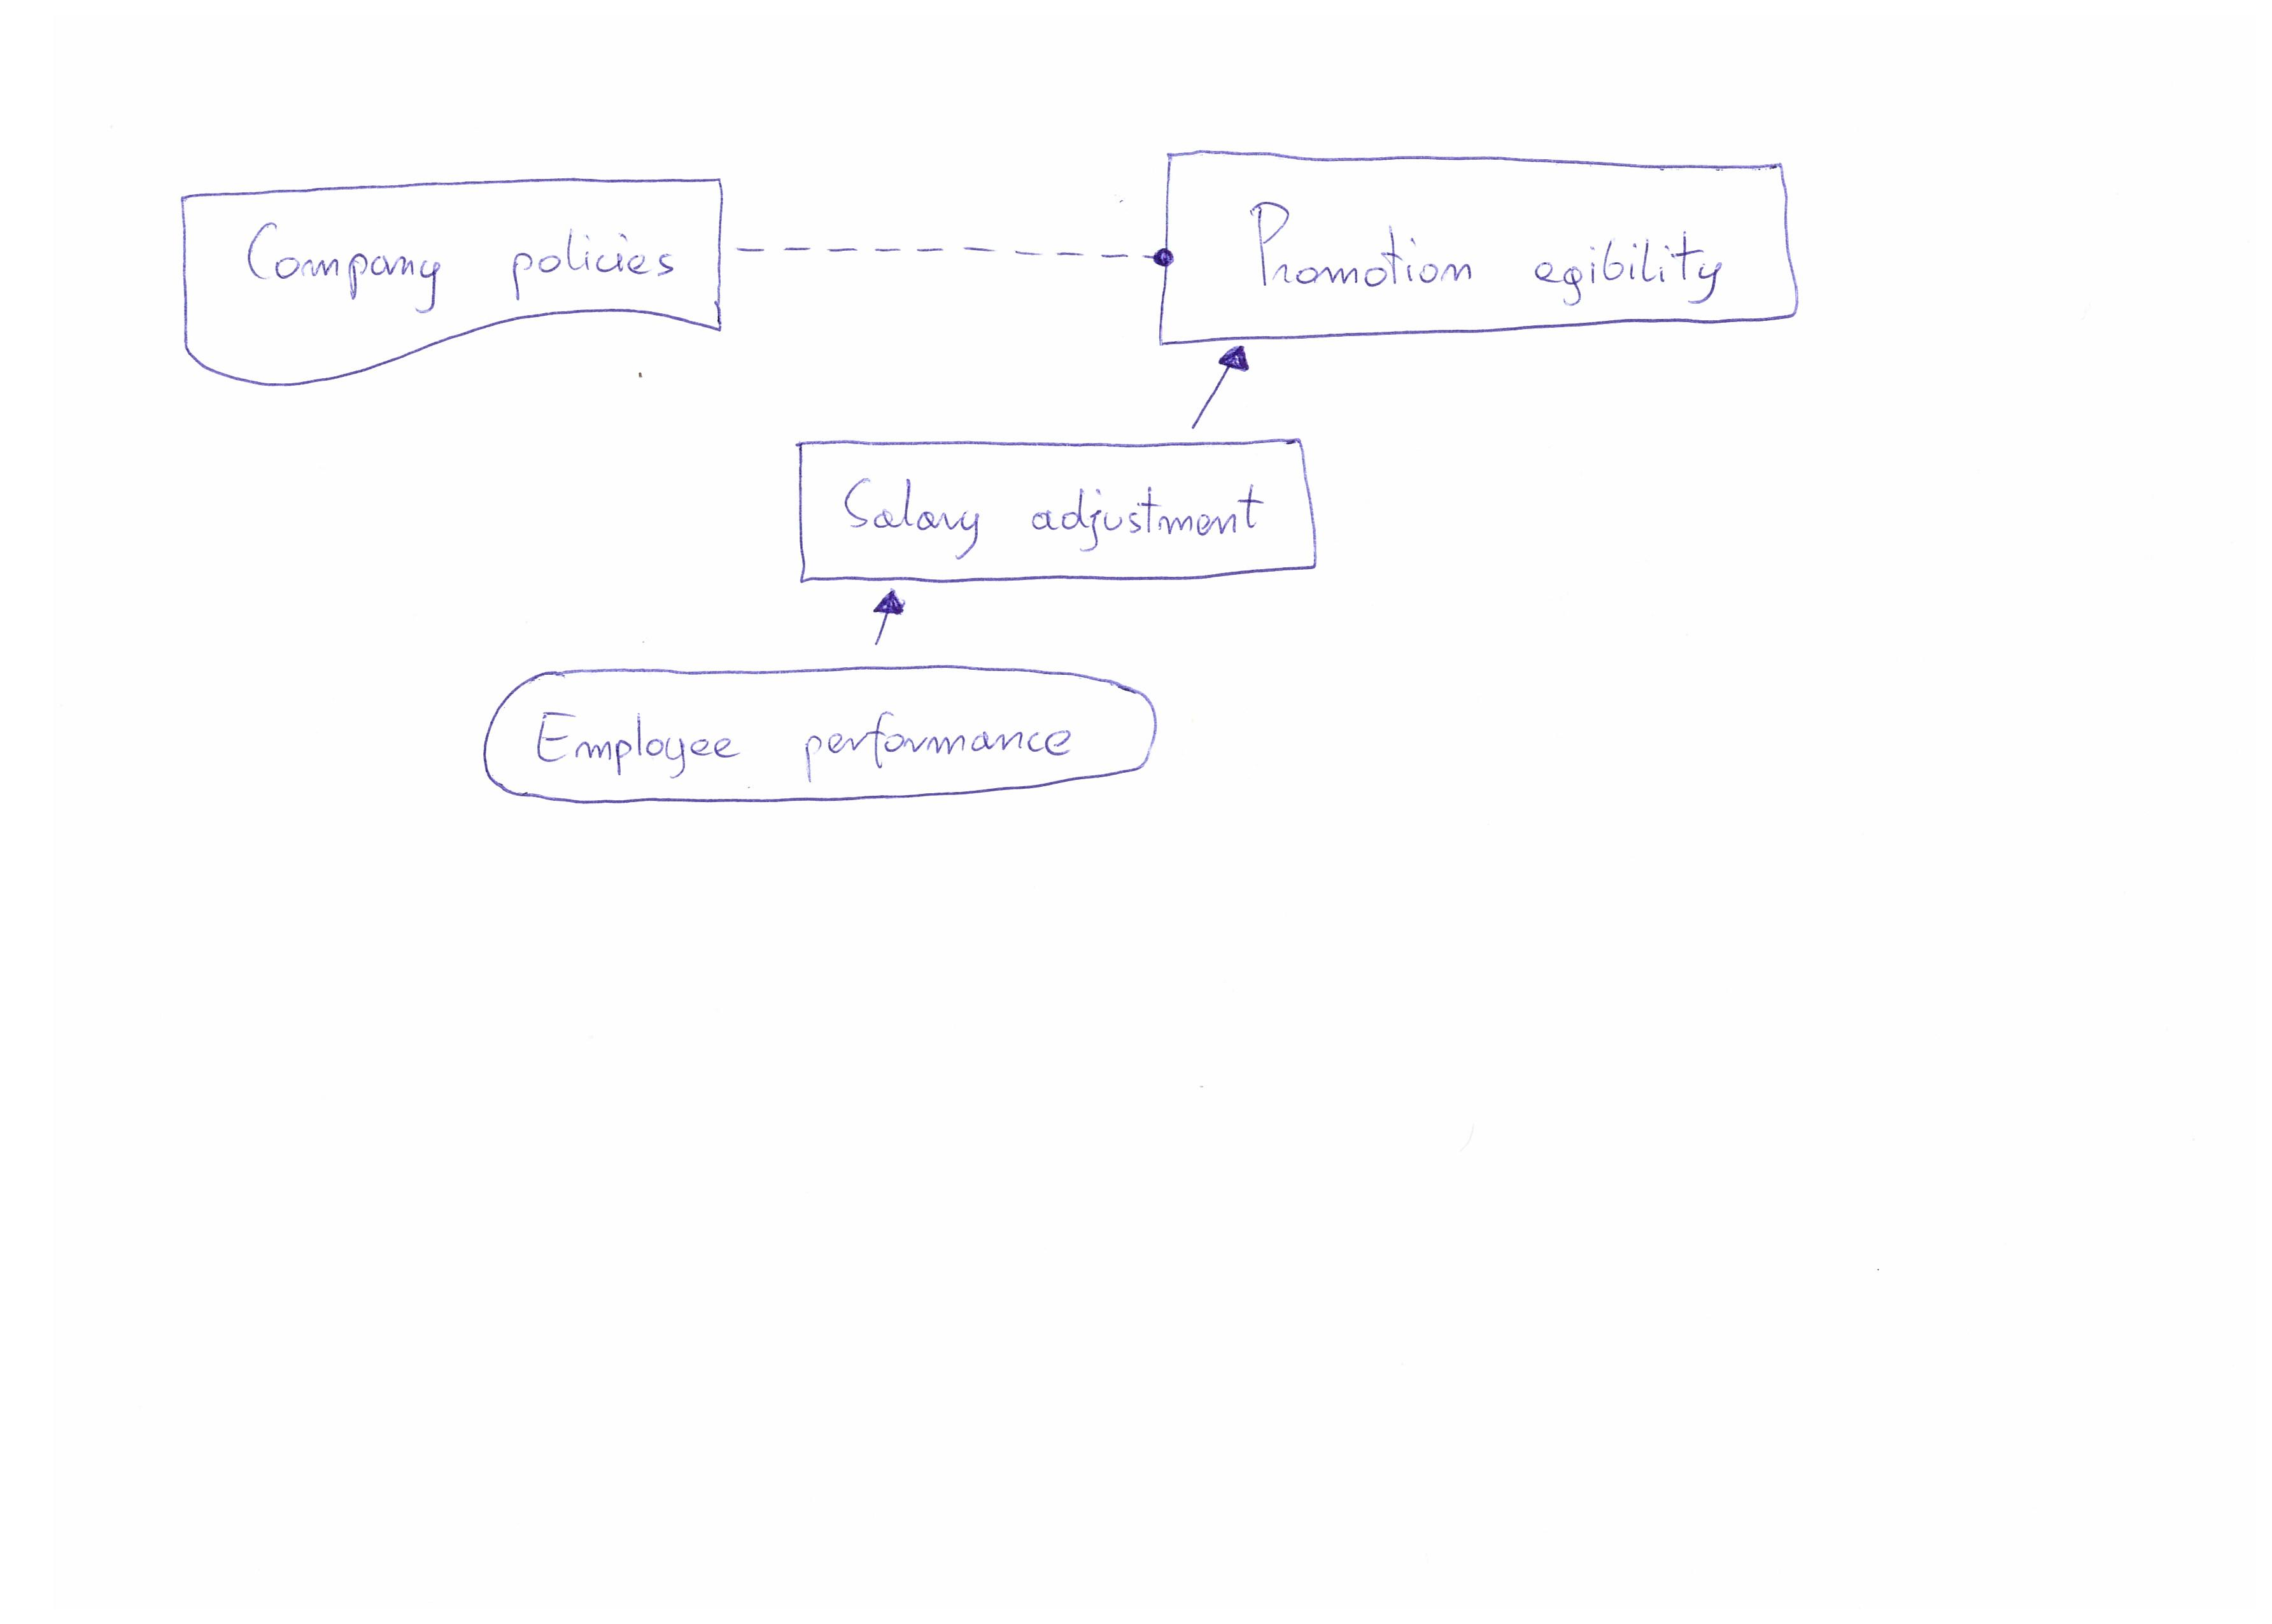arrow_authority_requirement: (727, 216, 1177, 286)
arrow_information_requirement: (1183, 339, 1272, 431), (854, 582, 914, 661)
node_decision: (1158, 139, 1812, 346), (791, 420, 1332, 585)
node_input_data: (471, 650, 1190, 817)
node_knowledge_source: (176, 170, 733, 394)
text: (1237, 188, 1748, 316), (828, 460, 1279, 566), (529, 696, 1077, 779), (228, 213, 699, 308)
